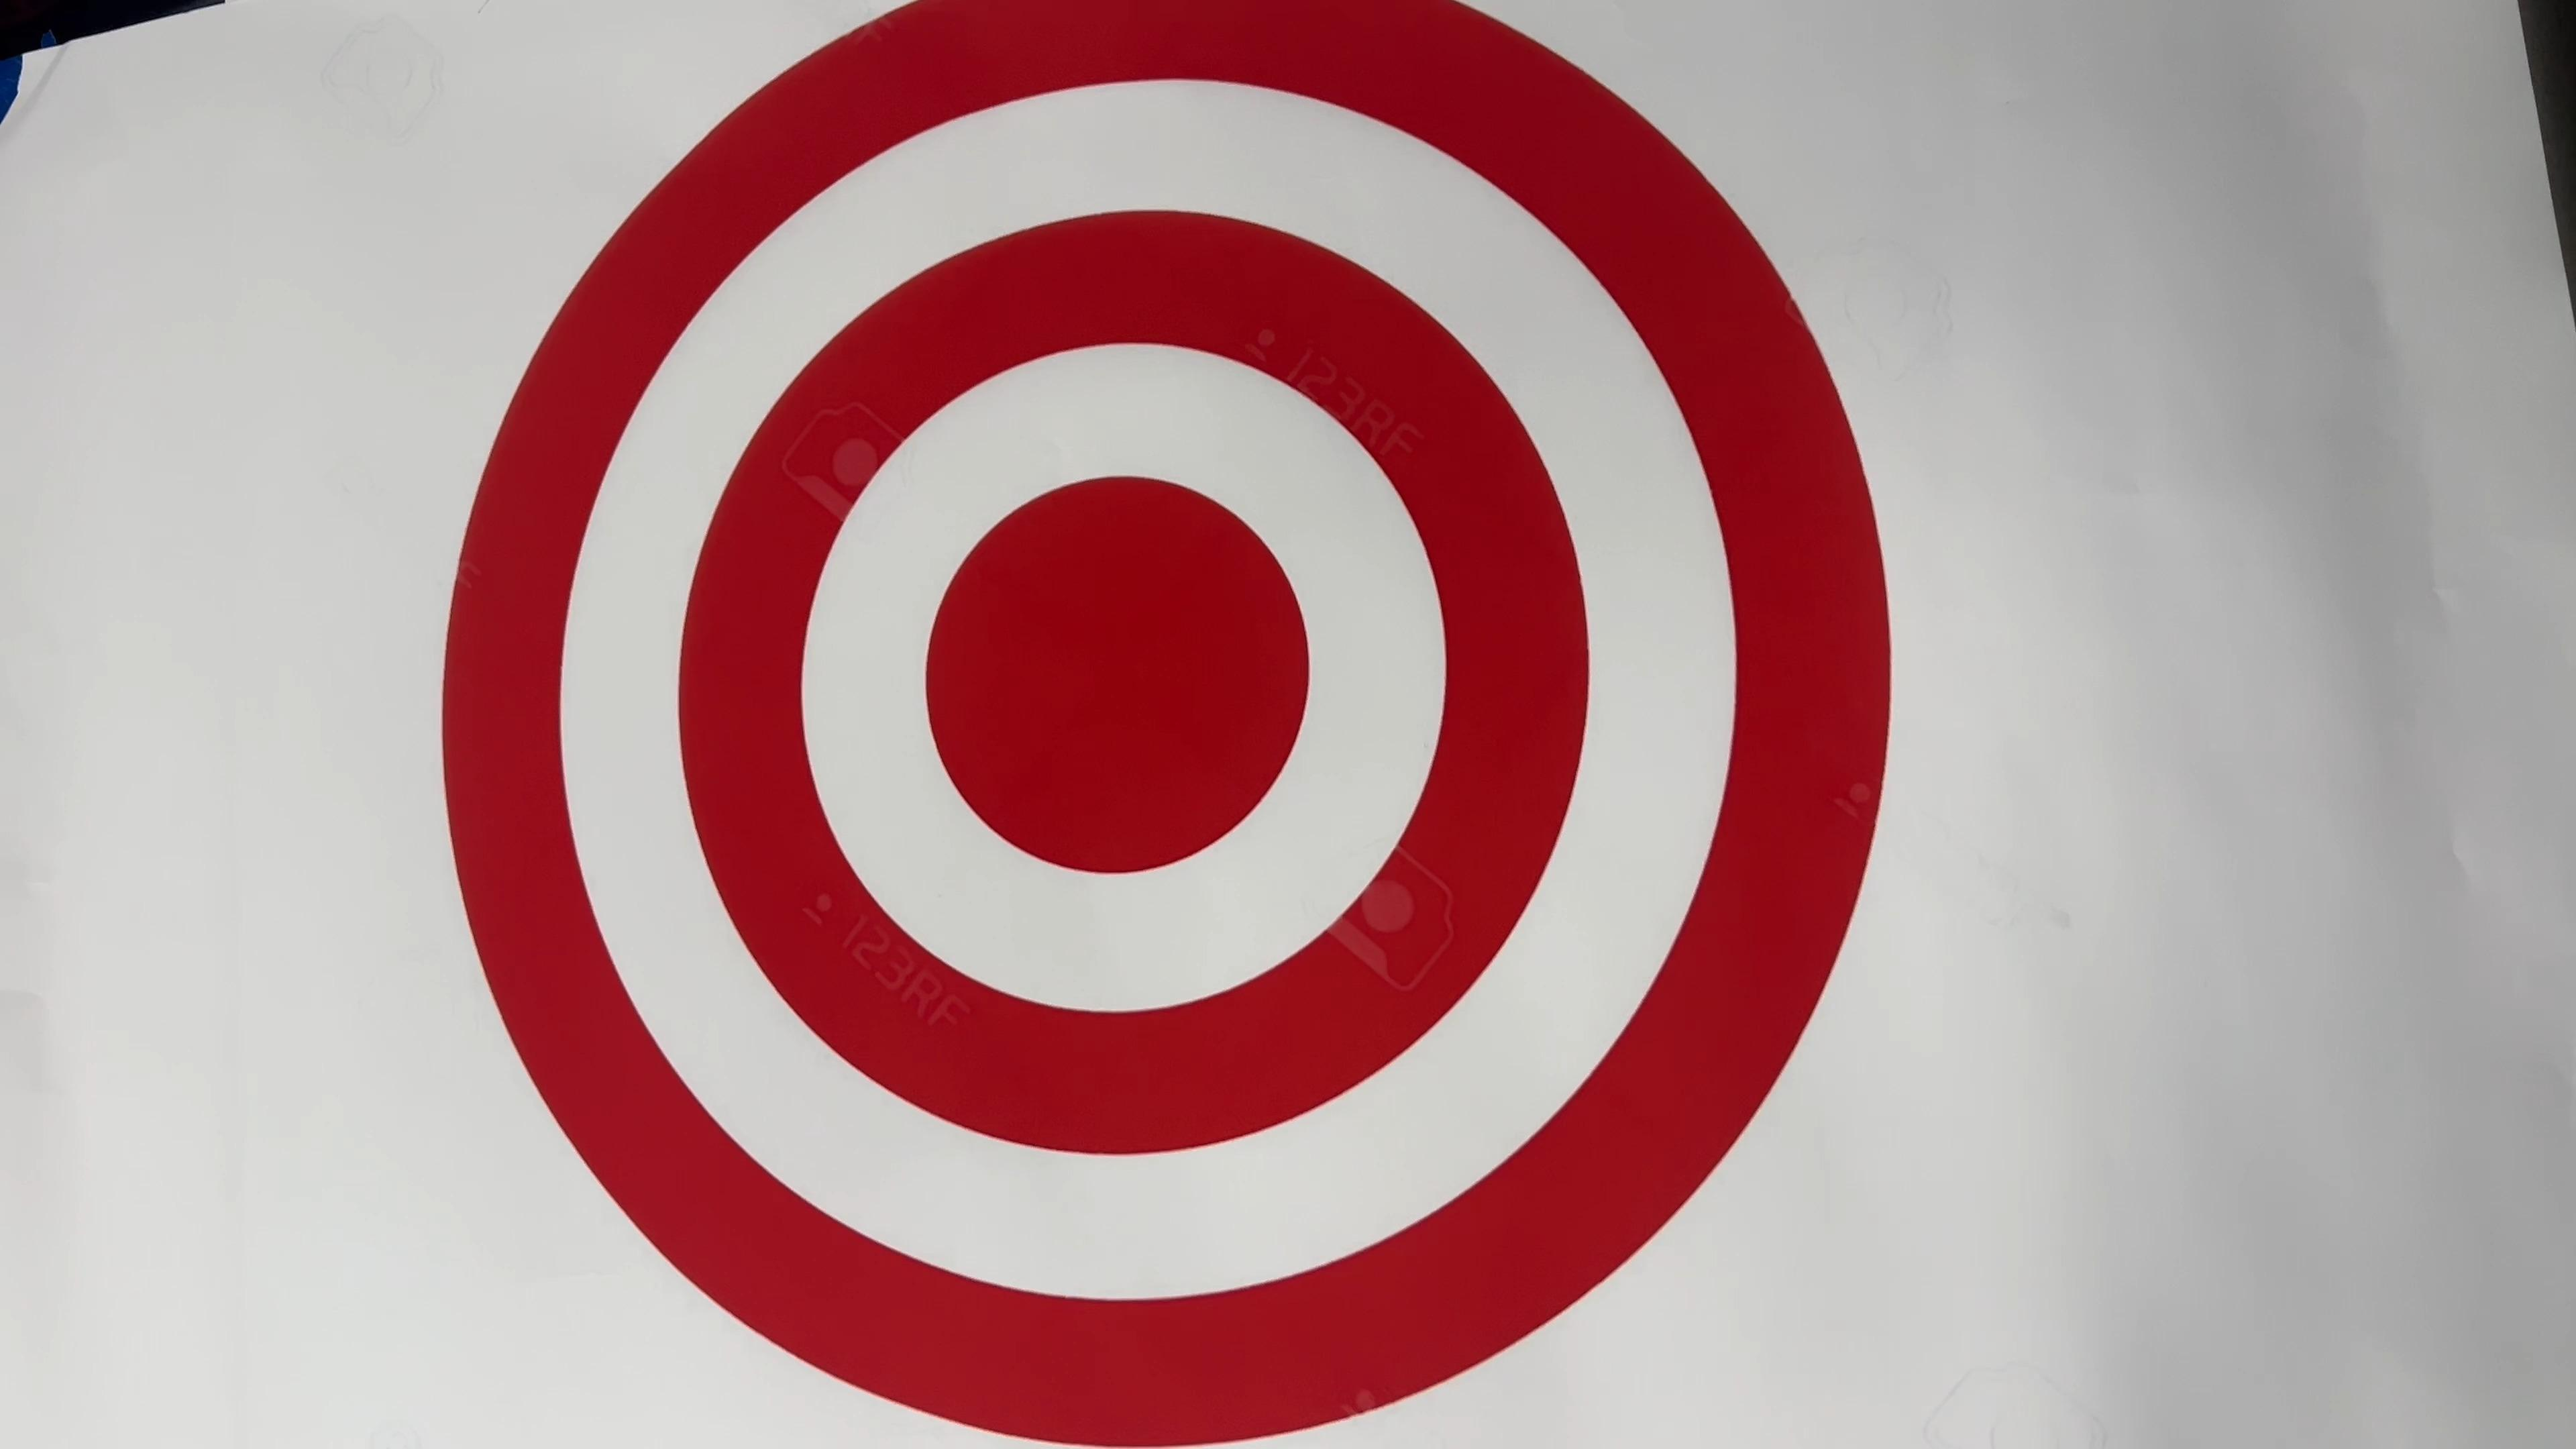target_red: (387, 0, 1920, 1449)
